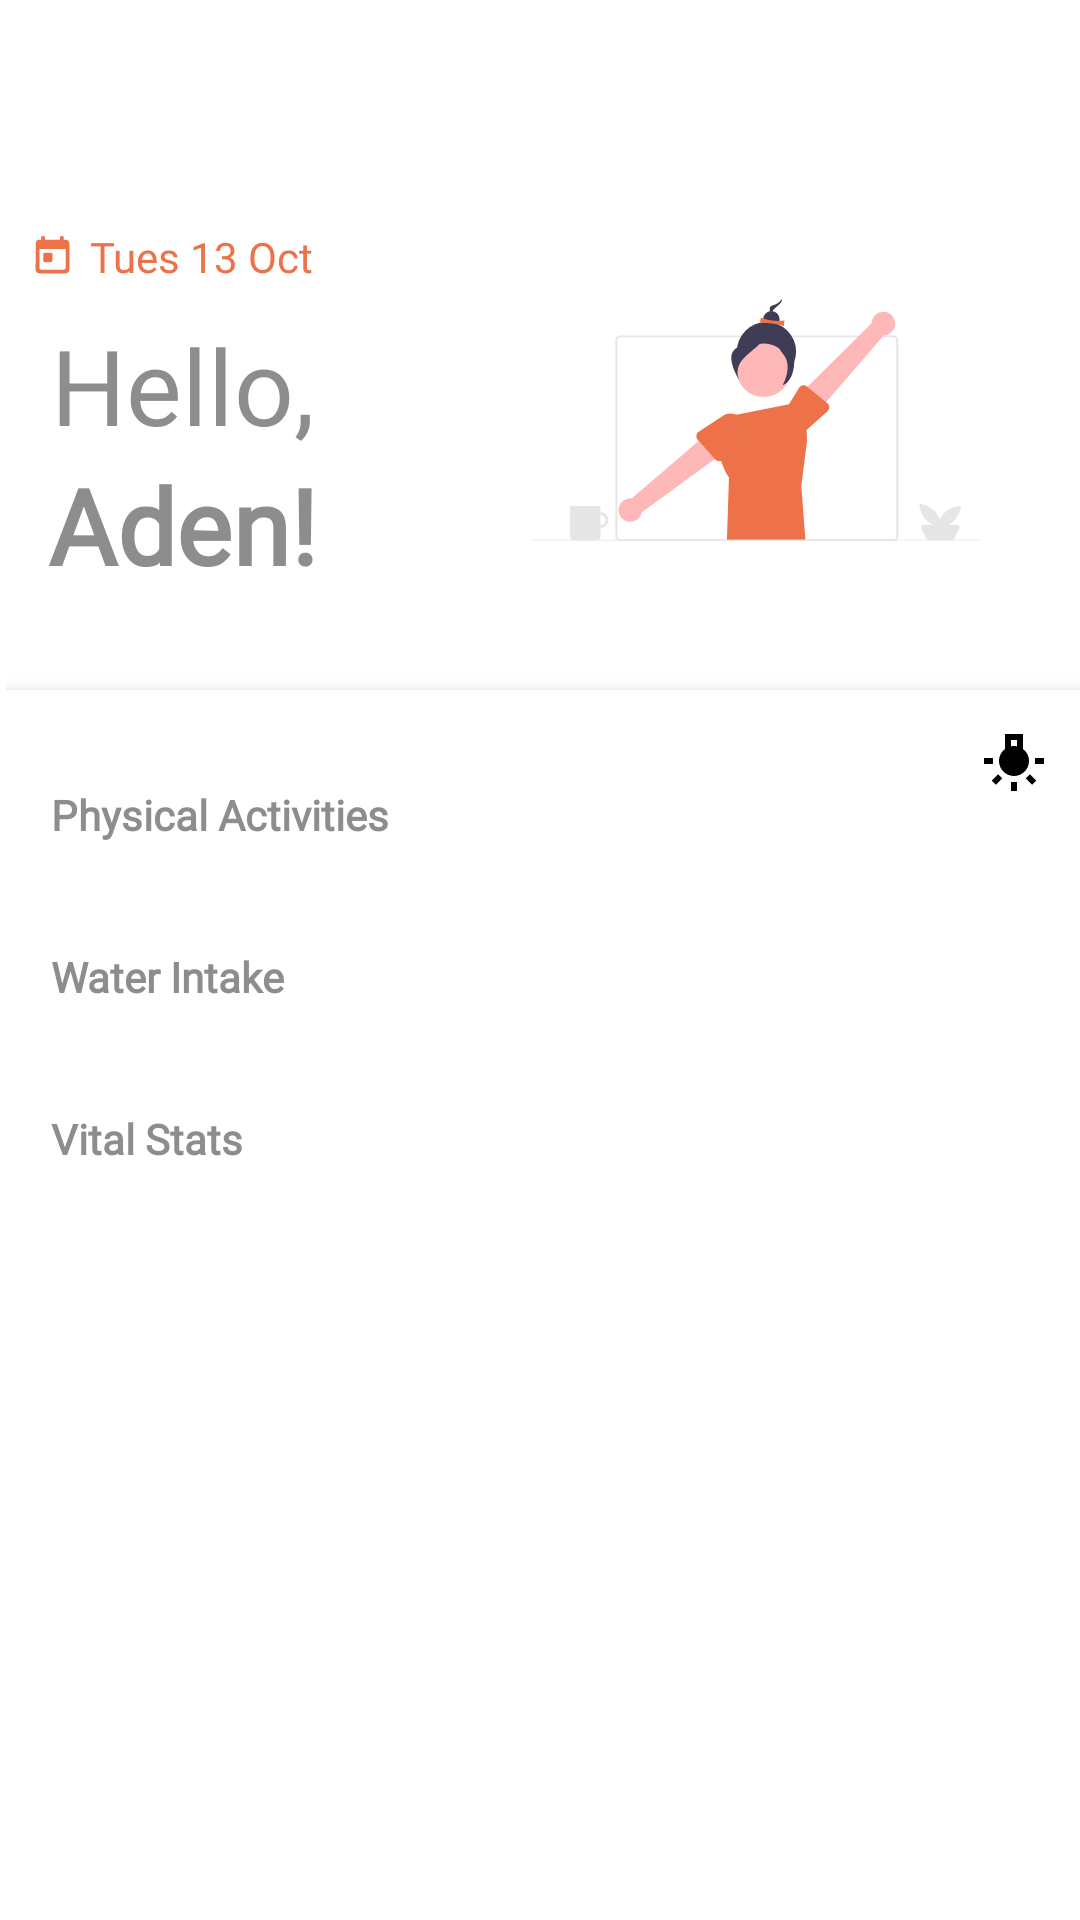

Screen size 1080px×1920px. Icon name, then its box in pixels as (x1, y1, x2, y2):
today: (35, 236, 70, 274)
tungsten: (984, 734, 1044, 791)
